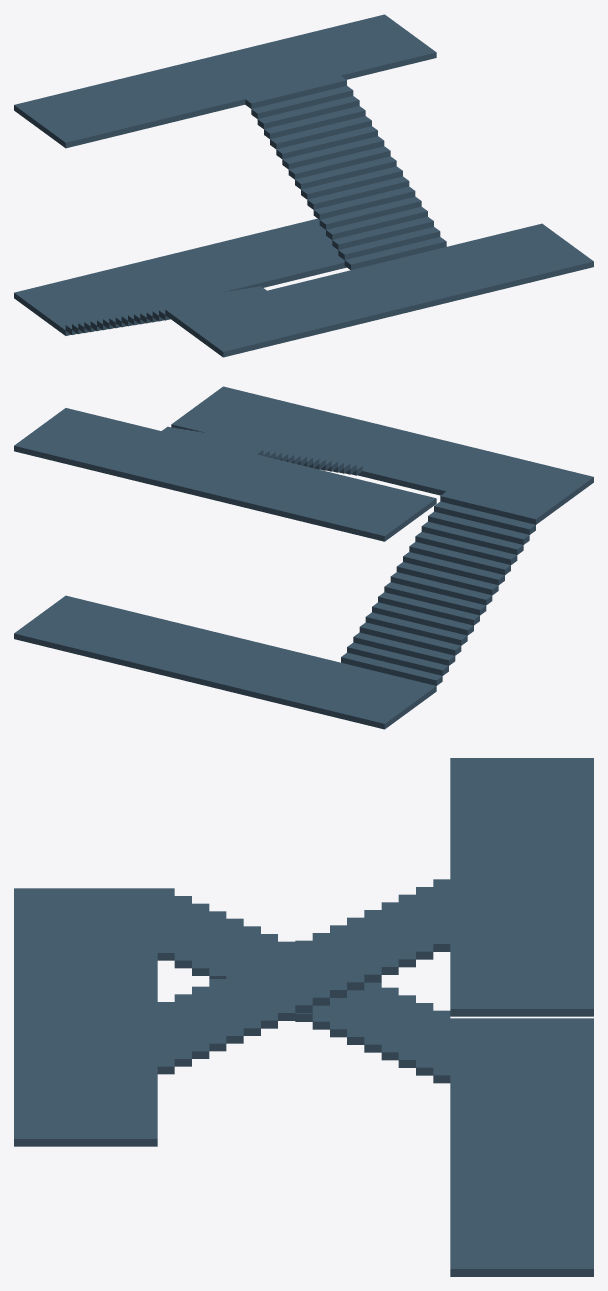
The model's file is v02-pilot-deck.glb.
3 views of the same model, one above another, from view 1: azimuth 30°, elevation 25°; view 2: azimuth 150°, elevation 25°; view 3: azimuth 270°, elevation 25° (orthographic). The views are drawn at different scales.
Parts seen in each view (by area): view 1: v02-pilot-deck; view 2: v02-pilot-deck; view 3: v02-pilot-deck.
Part boxes in pixels (x1=…): v02-pilot-deck: x1=14, y1=14, x2=593, y2=357; v02-pilot-deck: x1=14, y1=386, x2=593, y2=729; v02-pilot-deck: x1=14, y1=758, x2=593, y2=1276.
Bounding box in the file's own units: 12.4 × 6.18 × 12.12.
